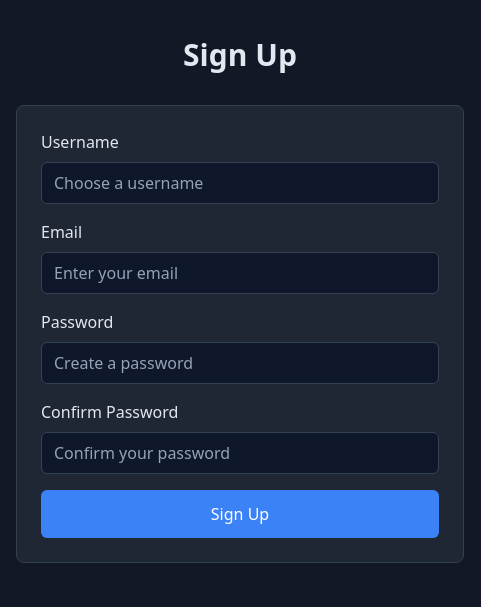
Test case: SignupPage integration › shows error message on failed signup
This screenshot has width=481, height=607.
In the field labelled "Username": (240, 183) [41,162,439,204], type "failuser"
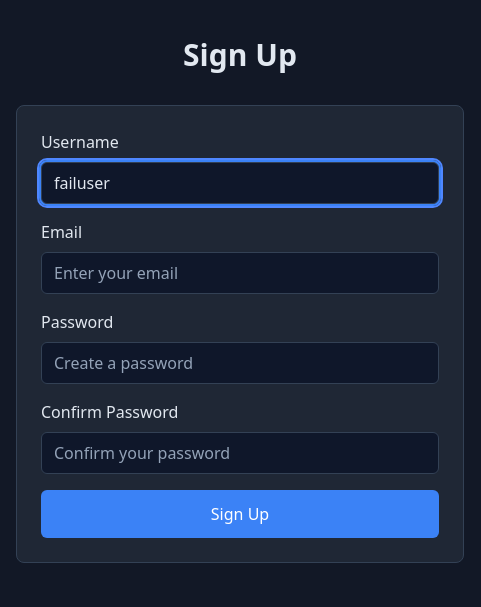
In the field labelled "Email": (240, 273) [41,252,439,294], type "fail@example.com"
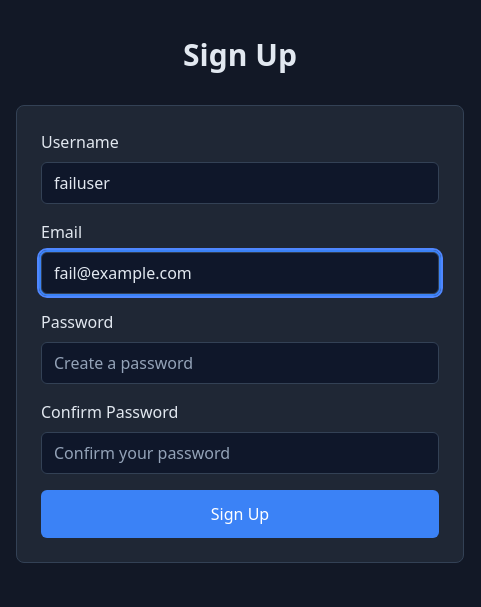
In the password field labelled "Password": (240, 363) [41,342,439,384], type "badpassword"
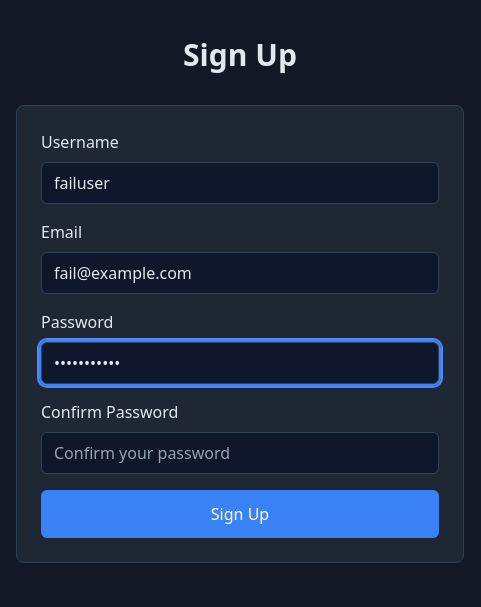
In the password field labelled "Confirm Password": (240, 453) [41,432,439,474], type "badpassword"
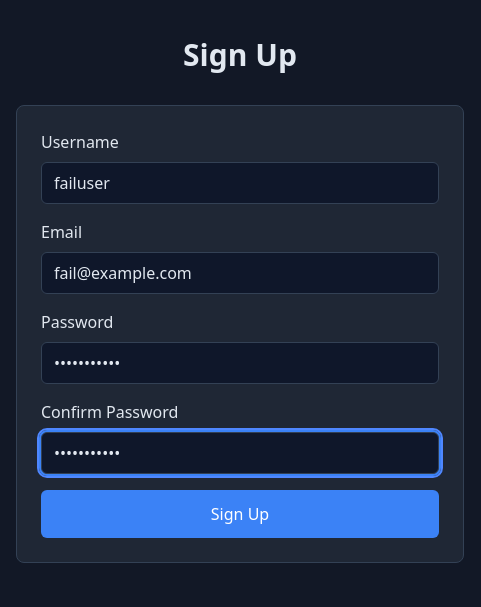
Click the button "Sign Up": click(240, 514) [41,490,439,538]
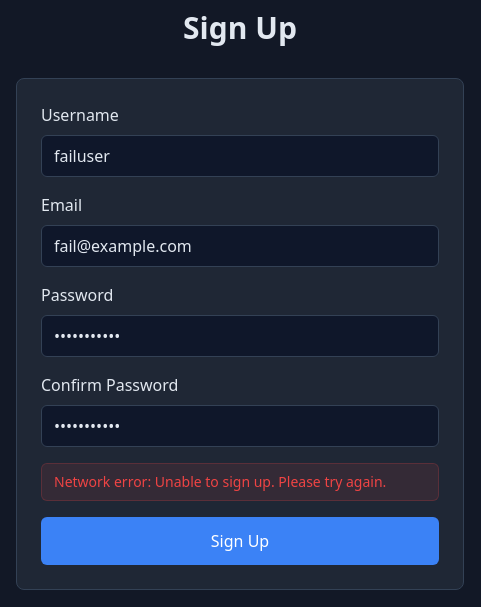
Expected: the text "Network error: Unable to sign up. Please try again." is shown, [41,463,439,501]
